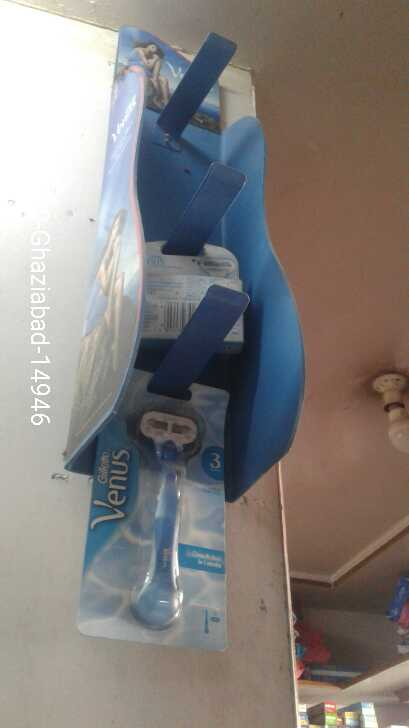venus: (116, 394, 229, 642)
